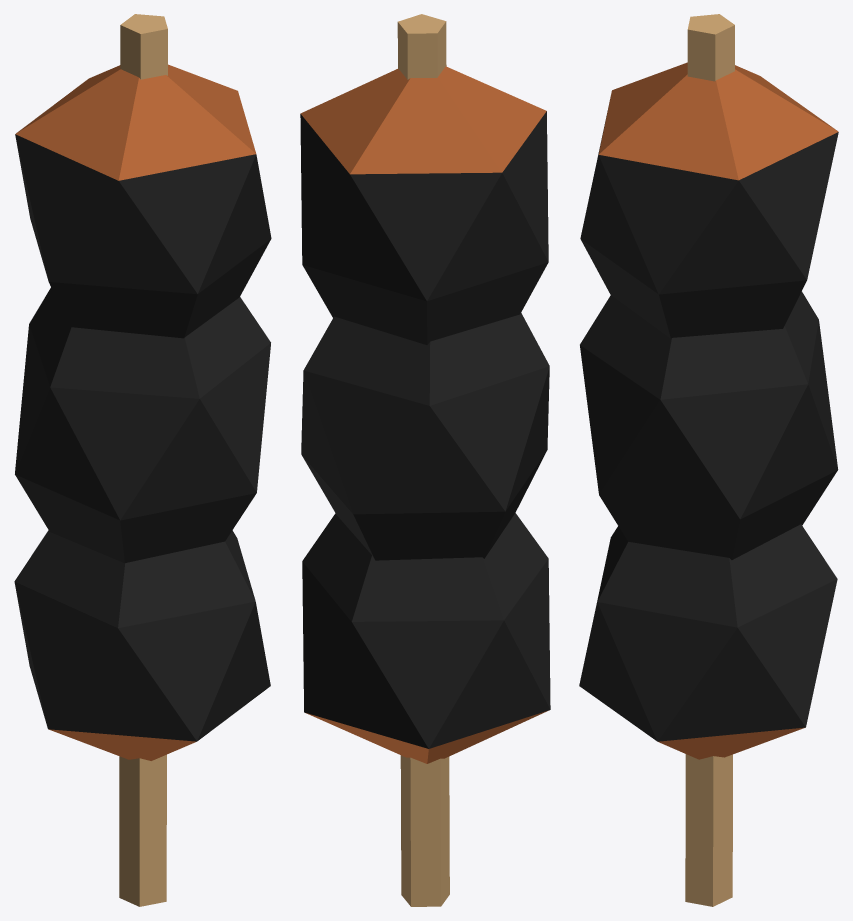
Rendered from dango_nori.fbx.
3 views of the same model, side by side, from view 1: azimuth 30°, elevation 25°; view 2: azimuth 150°, elevation 25°; view 3: azimuth 270°, elevation 25° (orthographic).
Visible parts, largest first — view 1: dango_nori; view 2: dango_nori; view 3: dango_nori.
Part boxes in pixels (x1,y1,x2,y2): dango_nori: (14,14,271,906); dango_nori: (300,14,550,906); dango_nori: (579,14,838,906).
Bounding box in the file's own units: 3.15 × 11.95 × 3.22.
